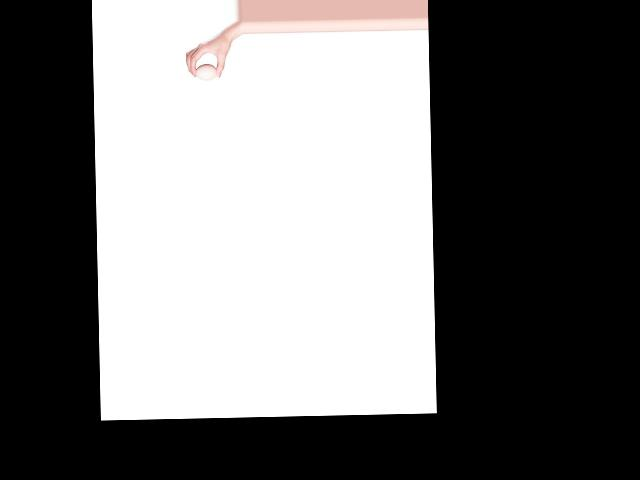egg: (195, 63, 217, 80)
